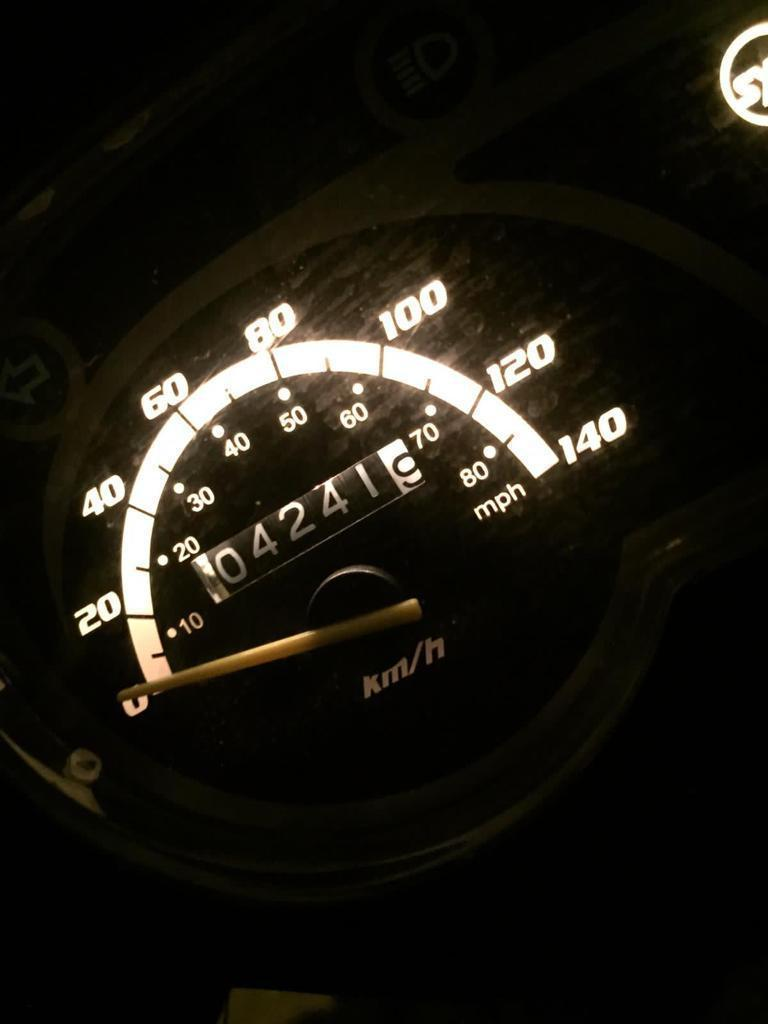0: (214, 546, 248, 584), (198, 485, 216, 504), (233, 431, 250, 451), (184, 535, 201, 554)
1: (353, 462, 379, 498)
2: (278, 499, 317, 541)
3: (186, 493, 204, 512)
4: (321, 481, 349, 517), (252, 521, 279, 558), (224, 438, 240, 458)
7: (408, 427, 424, 450)
9: (392, 452, 425, 488)
odometer: (188, 437, 428, 606)
